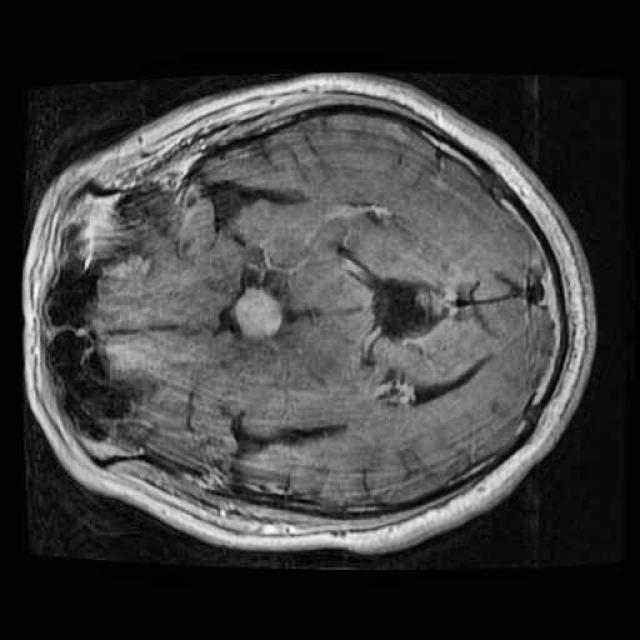Tumor: (223, 272, 296, 351)
